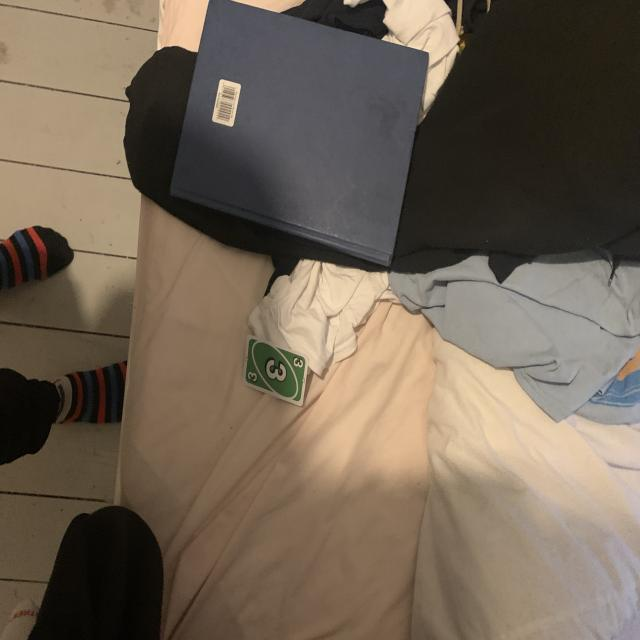lgreen-3: (290, 356, 305, 371)
